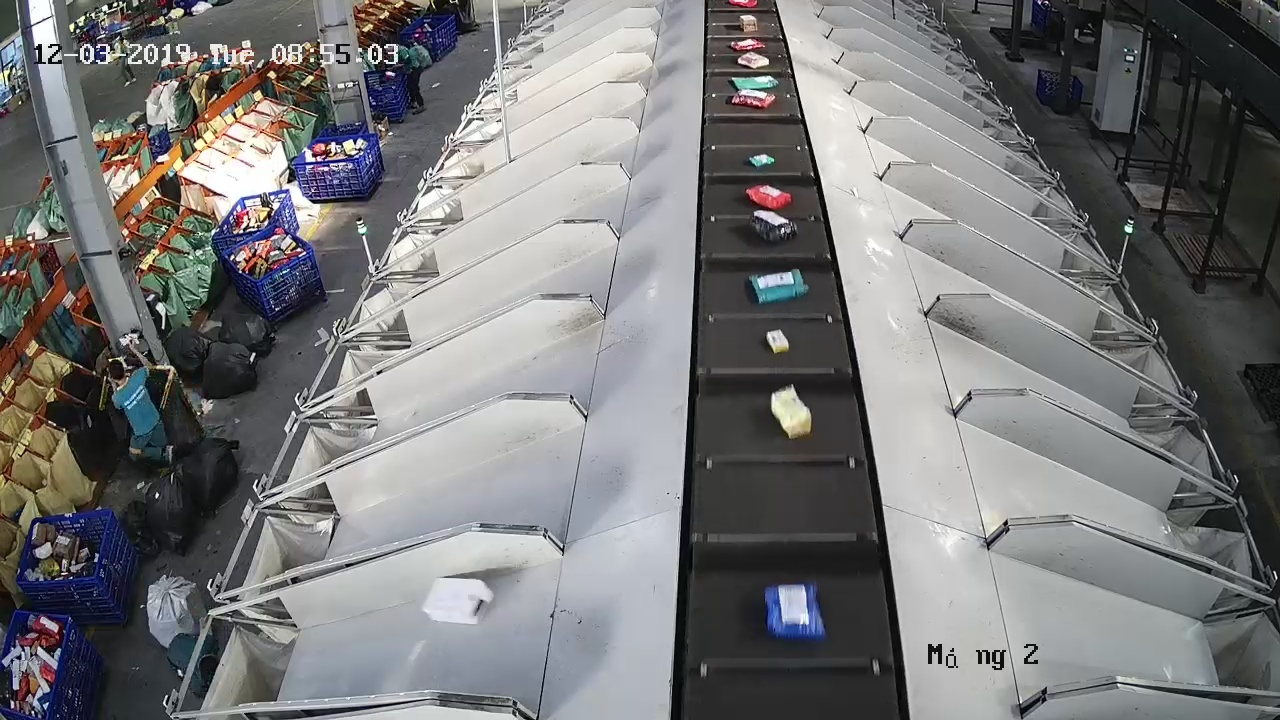parcel: (763, 579, 827, 641), (421, 576, 495, 626), (770, 384, 813, 440), (748, 268, 810, 305), (749, 209, 799, 243), (746, 179, 792, 208), (765, 327, 791, 355), (747, 152, 777, 168)
